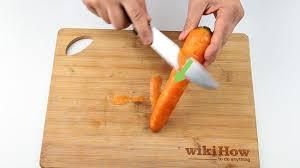Organic: (137, 25, 239, 135)
